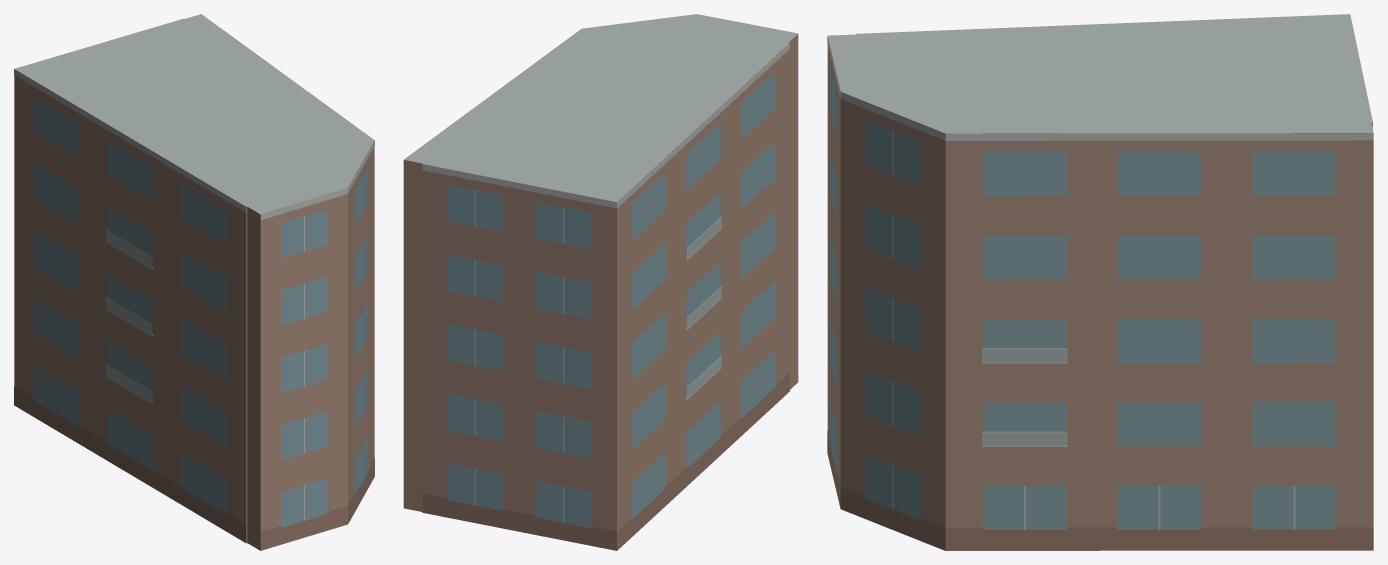
File: survey-upis-32852003.glb
3 renders of one model, left to right at view 1: azimuth 30°, elevation 25°; view 2: azimuth 150°, elevation 25°; view 3: azimuth 270°, elevation 25°, orthographic. The views are drawn at different scales.
Visible parts, largest first — view 1: survey-upis-32852003.tmp; view 2: survey-upis-32852003.tmp; view 3: survey-upis-32852003.tmp.
Part boxes in pixels (x1,y1,x2,y2): survey-upis-32852003.tmp: (14, 14, 374, 550); survey-upis-32852003.tmp: (403, 14, 798, 550); survey-upis-32852003.tmp: (827, 14, 1373, 550).
Size of the model in its own units: 8.45 by 13.7 by 16.25.
